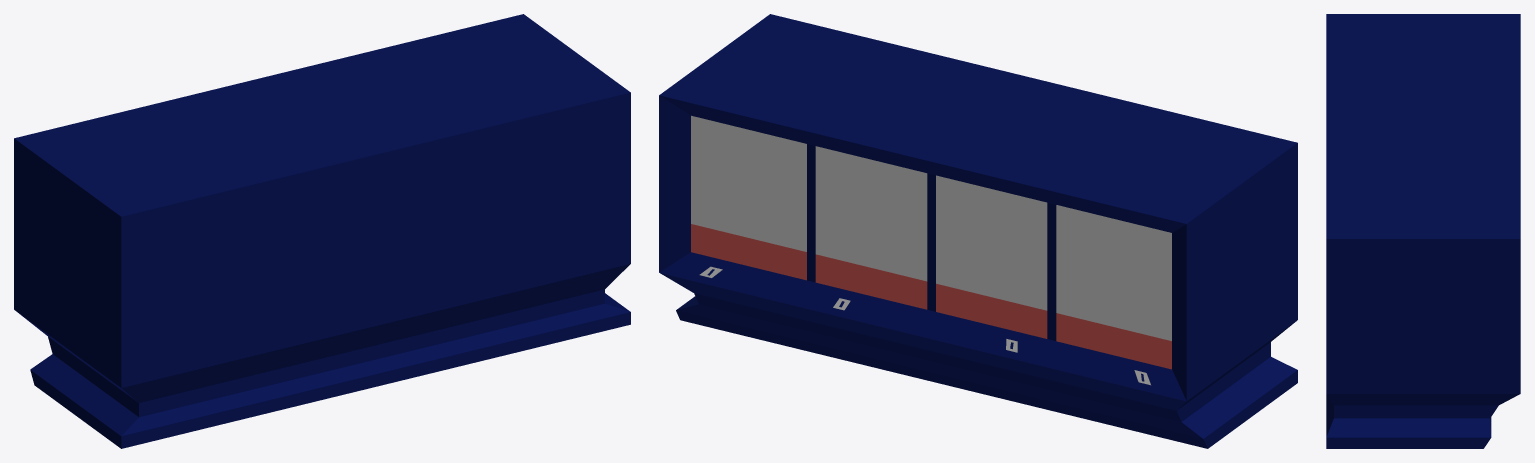
The model's file is newspaperVending.glb.
3 views of the same model, side by side, from view 1: azimuth 30°, elevation 25°; view 2: azimuth 150°, elevation 25°; view 3: azimuth 270°, elevation 25° (orthographic). The views are drawn at different scales.
Visible parts, largest first — view 1: Cube; view 2: Cube; view 3: Cube.
Part boxes in pixels (bbox=[...]): Cube: bbox=[14, 14, 630, 448]; Cube: bbox=[659, 14, 1297, 448]; Cube: bbox=[1326, 14, 1520, 448].
Bounding box in the file's own units: 26.86 × 11.69 × 9.8.
